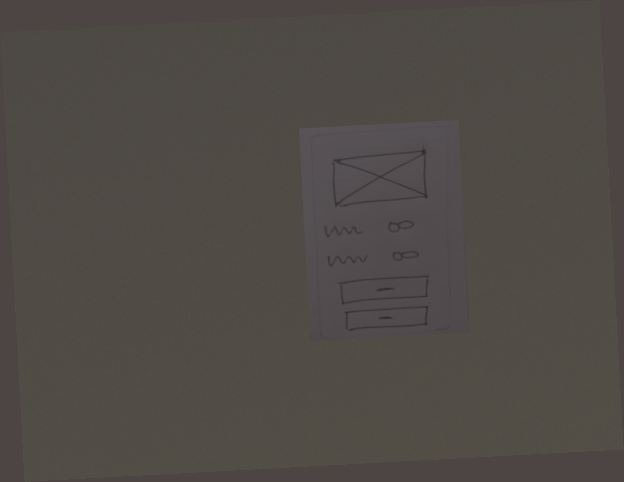button: (333, 274, 434, 308), (340, 304, 433, 335)
image: (327, 147, 433, 210)
switch: (384, 245, 423, 268), (382, 215, 417, 237)
text: (320, 220, 366, 243), (324, 250, 372, 271)
